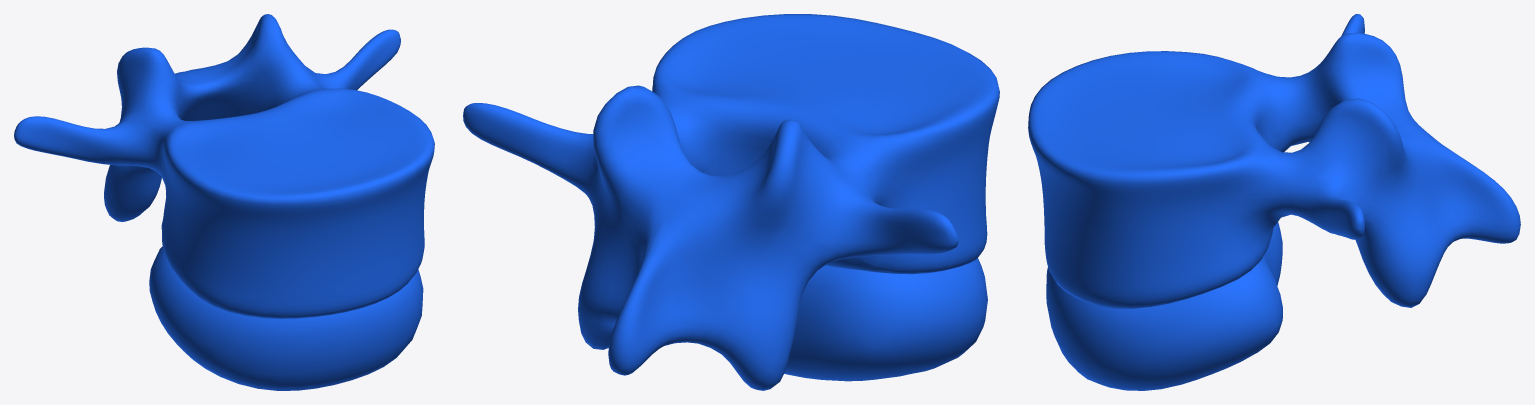
Rendered from L5Mod 1.fbx.
3 views of the same model, side by side, from view 1: azimuth 30°, elevation 25°; view 2: azimuth 150°, elevation 25°; view 3: azimuth 270°, elevation 25° (orthographic). The views are drawn at different scales.
Parts seen in each view (by area): view 1: L5; view 2: L5; view 3: L5.
Boxes of the visible parts, bbox=[...] form: L5: bbox=[14, 14, 434, 390]; L5: bbox=[463, 14, 999, 390]; L5: bbox=[1028, 14, 1520, 390].
Bounding box in the file's own units: 404 × 405 × 261.
